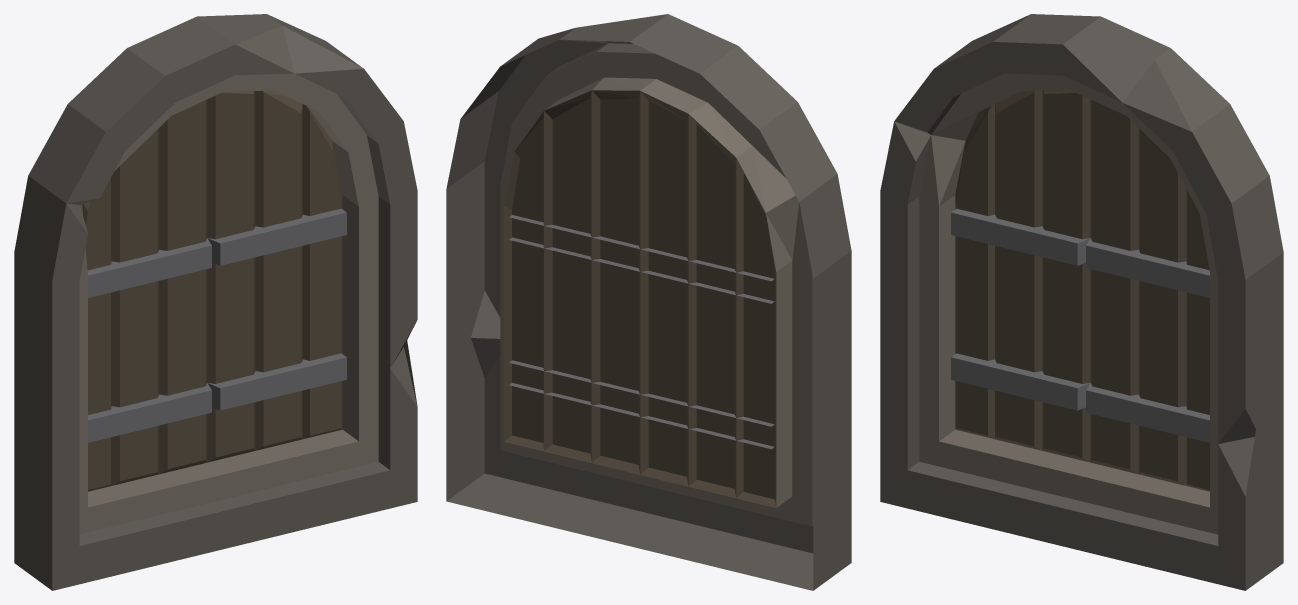
The model's file is SM_Bld_Fort_Door_02.glb.
3 views of the same model, side by side, from view 1: azimuth 30°, elevation 25°; view 2: azimuth 150°, elevation 25°; view 3: azimuth 330°, elevation 25° (orthographic).
Visible parts, largest first — view 1: SM_Bld_Fort_Door_02_part00; view 2: SM_Bld_Fort_Door_02_part00; view 3: SM_Bld_Fort_Door_02_part00.
Part boxes in pixels (box(x1,y1,x2,y2)): SM_Bld_Fort_Door_02_part00: box(14, 14, 417, 590); SM_Bld_Fort_Door_02_part00: box(446, 14, 851, 590); SM_Bld_Fort_Door_02_part00: box(880, 14, 1283, 590).
Bounding box in the file's own units: 2.98 × 3.91 × 0.5388.
1 material, 1 textured.
